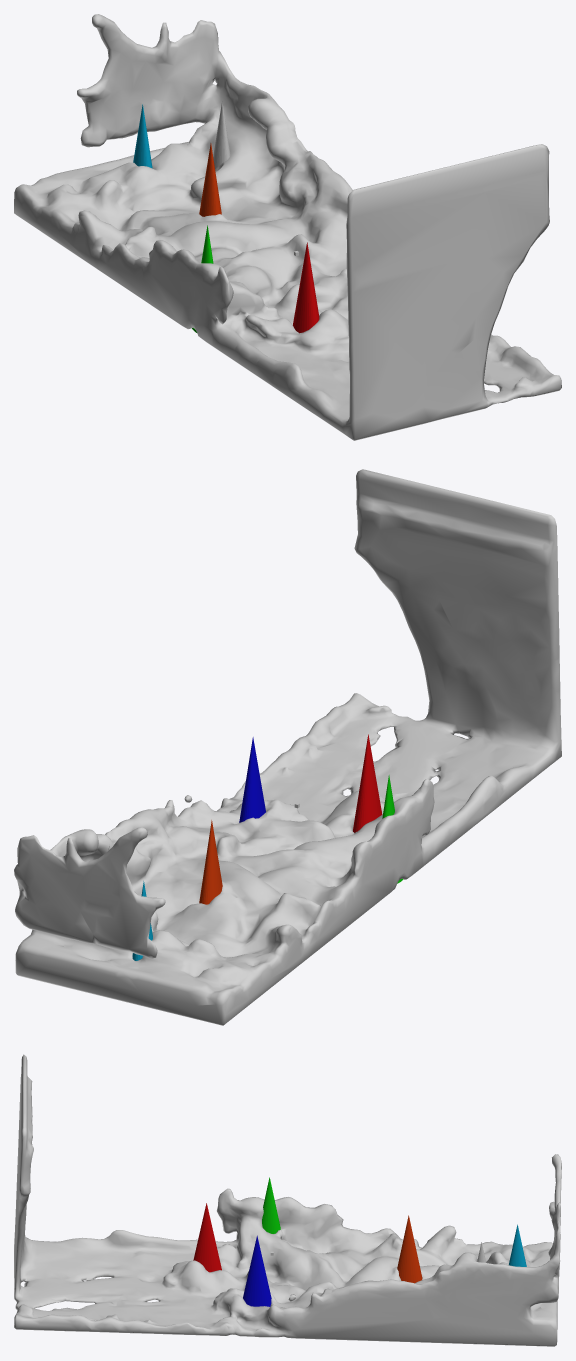
The picture shows the model from 3 angles, top to bottom: view 1: azimuth 30°, elevation 25°; view 2: azimuth 150°, elevation 25°; view 3: azimuth 270°, elevation 25°; orthographic projection. The views are drawn at different scales.
Parts seen in each view (by area): view 1: Liquid_Domain, 円錐.001, 円錐.004, 円錐, 円錐.005; view 2: Liquid_Domain, 円錐.001, 円錐.002, 円錐.004; view 3: Liquid_Domain, 円錐.002, 円錐.001, 円錐.004, 円錐.003, 円錐.005.
Part boxes in pixels (x1,y1,x2,y2): Liquid_Domain: [14, 14, 561, 440]; 円錐.001: [293, 242, 319, 333]; 円錐.004: [199, 143, 221, 216]; 円錐: [213, 101, 230, 169]; 円錐.005: [133, 104, 152, 168]; Liquid_Domain: [14, 469, 561, 1025]; 円錐.001: [353, 734, 382, 832]; 円錐.002: [239, 737, 265, 822]; 円錐.004: [199, 820, 222, 904]; Liquid_Domain: [14, 1054, 561, 1346]; 円錐.002: [243, 1235, 271, 1306]; 円錐.001: [193, 1203, 221, 1272]; 円錐.004: [397, 1215, 422, 1283]; 円錐.003: [262, 1177, 280, 1233]; 円錐.005: [509, 1224, 526, 1266].
Bounding box in the file's own units: 129 × 158 × 364.
